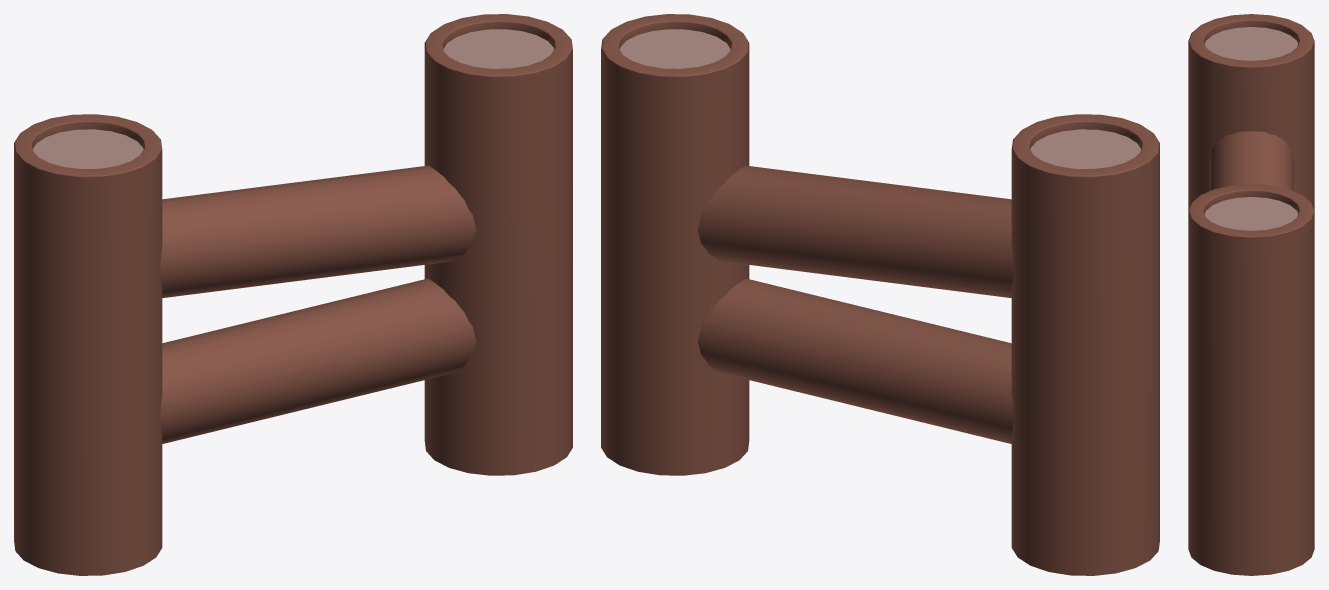
Rendered from Farm_18_Fence_2.glb.
3 views of the same model, side by side, from view 1: azimuth 30°, elevation 25°; view 2: azimuth 150°, elevation 25°; view 3: azimuth 270°, elevation 25° (orthographic). The views are drawn at different scales.
Visible parts, largest first — view 1: Farm_18_Fence_2; view 2: Farm_18_Fence_2; view 3: Farm_18_Fence_2.
Boxes of the visible parts, x1,y1,x2,y2 form: Farm_18_Fence_2: [14, 14, 572, 575]; Farm_18_Fence_2: [601, 14, 1159, 575]; Farm_18_Fence_2: [1188, 14, 1314, 575].
Size of the model in its own units: 1.63 by 1.16 by 0.3902.
1 material, 1 textured.
